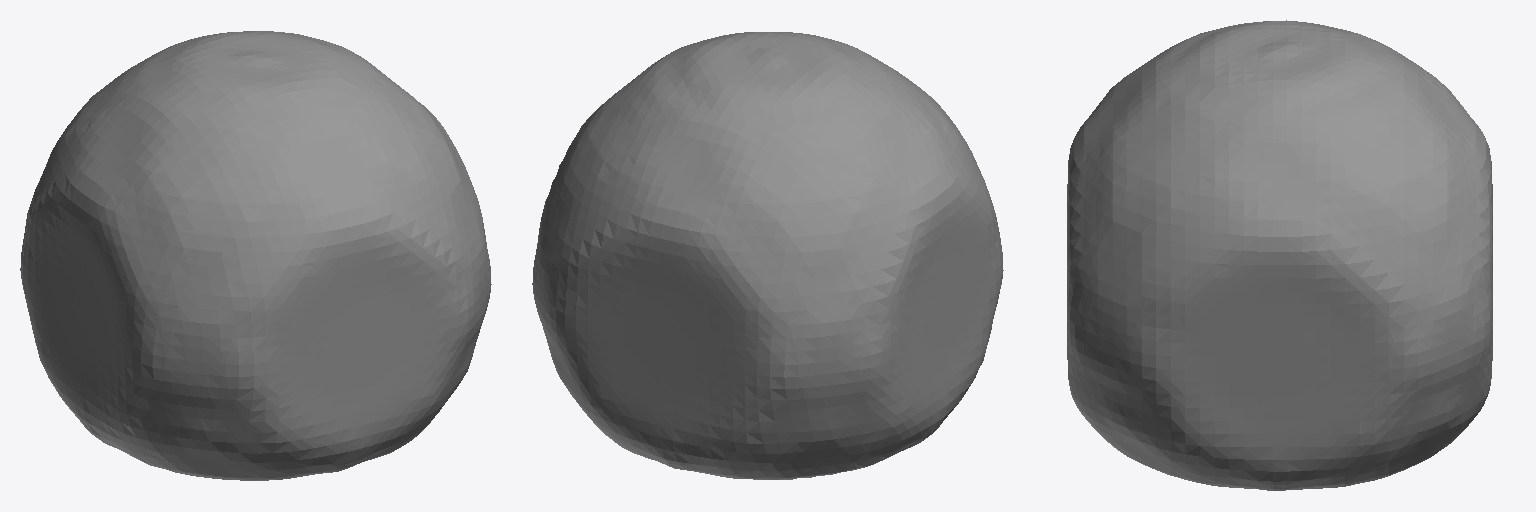
URDF robot description (cube.urdf):
<?xml version="0.0" ?> 
<robot name="cube.urdf"> 
<link name="legobrick"> 
<contact> 
<lateral_friction value="5.0"/> 
<rolling_friction value="0.0"/> 
<contact_cfm value="0.0"/> 
<contact_erp value="1.0"/> 
</contact> 
<inertial> 
<origin rpy="0 0 0" xyz="0.0 0.0 0.0"/> 
<mass value=".01"/> 
<inertia ixx="1" ixy="0" ixz="0" iyy="1" iyz="0" izz="1"/> 
</inertial> 
<visual> 
<origin rpy="1.570796 0 0" xyz="-0.025880689046621764 0.0258826095727007 -0.021319541014565405"/> 
<geometry> 
<mesh filename="F07_2.obj" scale="0.000679737165850436 0.000679737165850436 0.000679737165850436"/> 
</geometry> 
<material name="yellow"> 
<color rgba="0.6 0.6 0.6 1"/> 
</material> 
</visual> 
<collision> 
<origin rpy="1.570796 0 0" xyz="-0.025880689046621764 0.0258826095727007 -0.021319541014565405"/> 
<geometry> 
<mesh filename="F07_2.obj" scale="0.000679737165850436 0.000679737165850436 0.000679737165850436"/> 
</geometry> 
</collision> 
</link> 
</robot>

--- Facts derived from the render (not from the file) ---
3 views of the same robot in one strip: view 1: azimuth 30°, elevation 25°; view 2: azimuth 150°, elevation 25°; view 3: azimuth 270°, elevation 25° (orthographic).
Model cube.urdf with 1 links and 0 joints (none), rooted at legobrick, posed every joint at zero.
Visible links, largest first — view 1: legobrick; view 2: legobrick; view 3: legobrick.
Link boxes in pixels (bbox=[...]): legobrick: bbox=[20, 31, 491, 480]; legobrick: bbox=[532, 32, 1003, 479]; legobrick: bbox=[1067, 20, 1492, 490].
Size in the robot's own frame: 0.056 by 0.056 by 0.0544 metres.
1 mesh visuals loaded from 1 distinct referenced files (1 OBJ).
